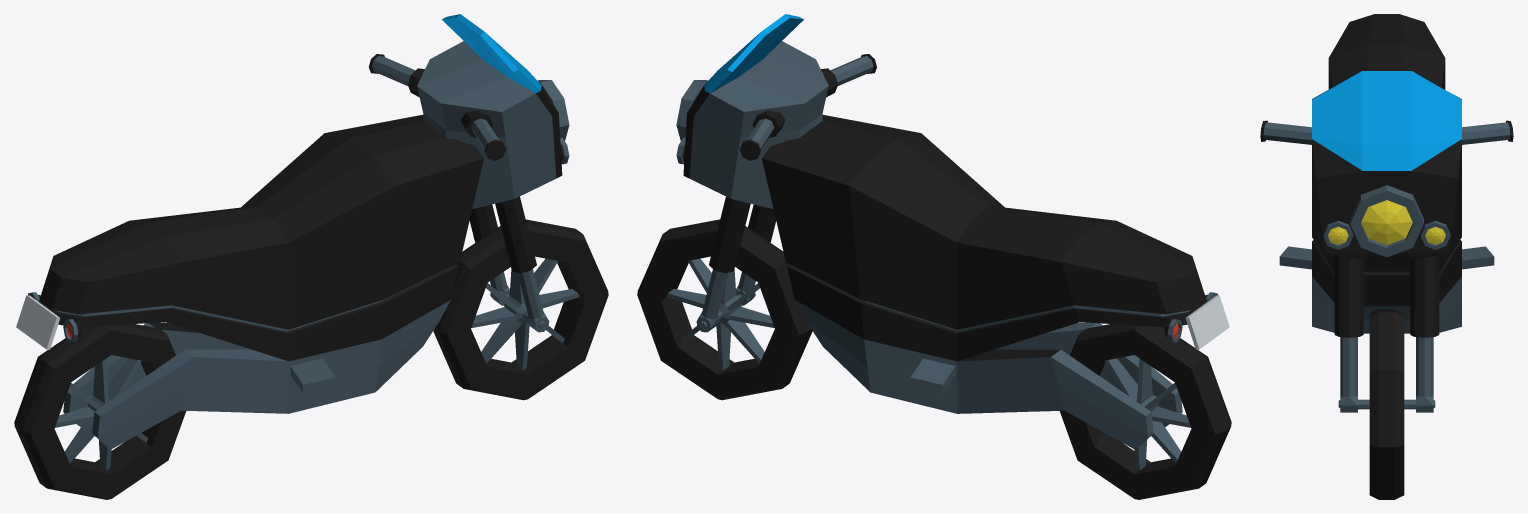
Rendered from scene_rMNnxRH65h.glb.
3 renders of one model, left to right at view 1: azimuth 30°, elevation 25°; view 2: azimuth 150°, elevation 25°; view 3: azimuth 270°, elevation 25°, orthographic. The views are drawn at different scales.
Parts seen in each view (by area): view 1: Circle.001_Circle.007; view 2: Circle.001_Circle.007; view 3: Circle.001_Circle.007.
Part boxes in pixels (<box>): Circle.001_Circle.007: <box>14,14,608,499</box>; Circle.001_Circle.007: <box>637,14,1231,499</box>; Circle.001_Circle.007: <box>1260,14,1513,499</box>.
Bounding box in the file's own units: 15.79 × 9.94 × 5.68.
